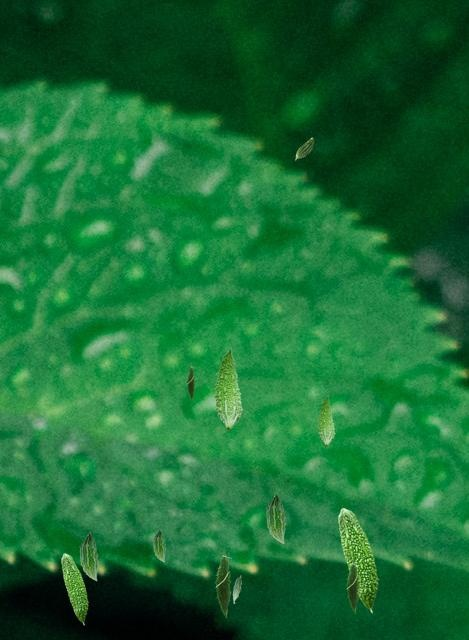ampalaya: (337, 507, 379, 613), (212, 347, 243, 430), (61, 553, 89, 625), (214, 547, 233, 618), (265, 492, 286, 544), (79, 531, 99, 581), (316, 394, 335, 446), (345, 557, 360, 614), (152, 528, 166, 562), (294, 137, 314, 160), (185, 362, 196, 402), (232, 575, 242, 604)
